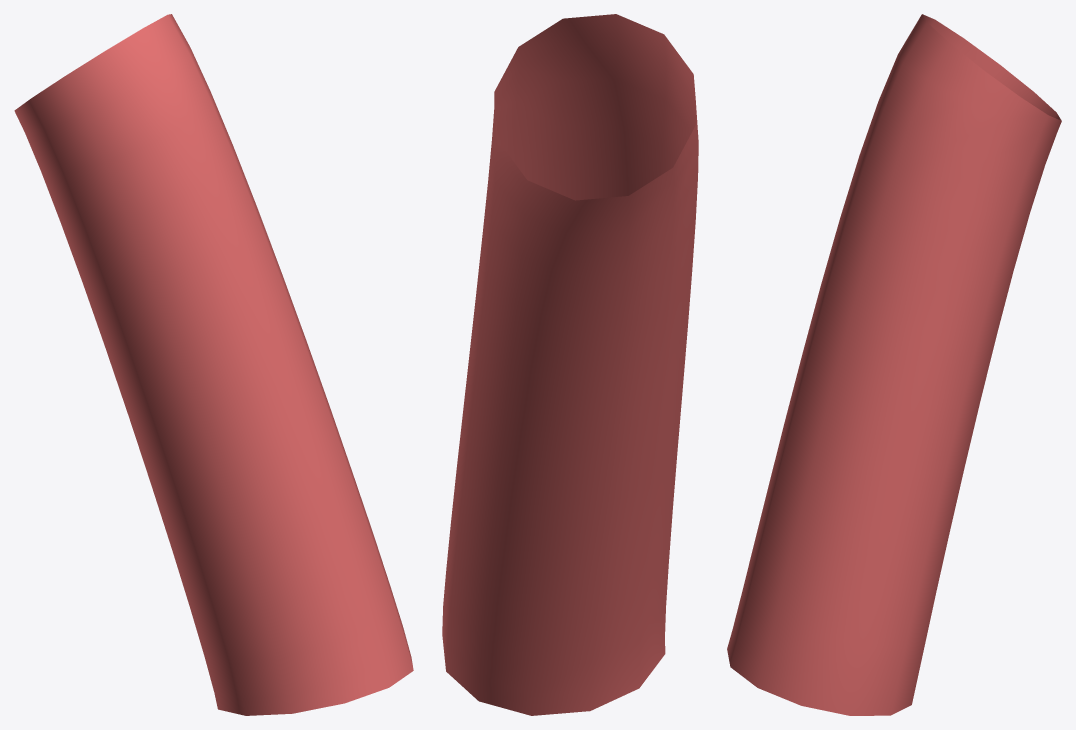
The model's file is Thyrocervical_trunk.r_BezierCurve.383.glb.
3 views of the same model, side by side, from view 1: azimuth 30°, elevation 25°; view 2: azimuth 150°, elevation 25°; view 3: azimuth 270°, elevation 25° (orthographic). The views are drawn at different scales.
Visible parts, largest first — view 1: Thyrocervical_trunk.r_BezierCurve.383; view 2: Thyrocervical_trunk.r_BezierCurve.383; view 3: Thyrocervical_trunk.r_BezierCurve.383.
Part boxes in pixels (x1,y1,x2,y2): Thyrocervical_trunk.r_BezierCurve.383: [14, 14, 413, 715]; Thyrocervical_trunk.r_BezierCurve.383: [442, 14, 698, 715]; Thyrocervical_trunk.r_BezierCurve.383: [727, 14, 1061, 715].
Bounding box in the file's own units: 0.00361 × 0.00781 × 0.0038.
